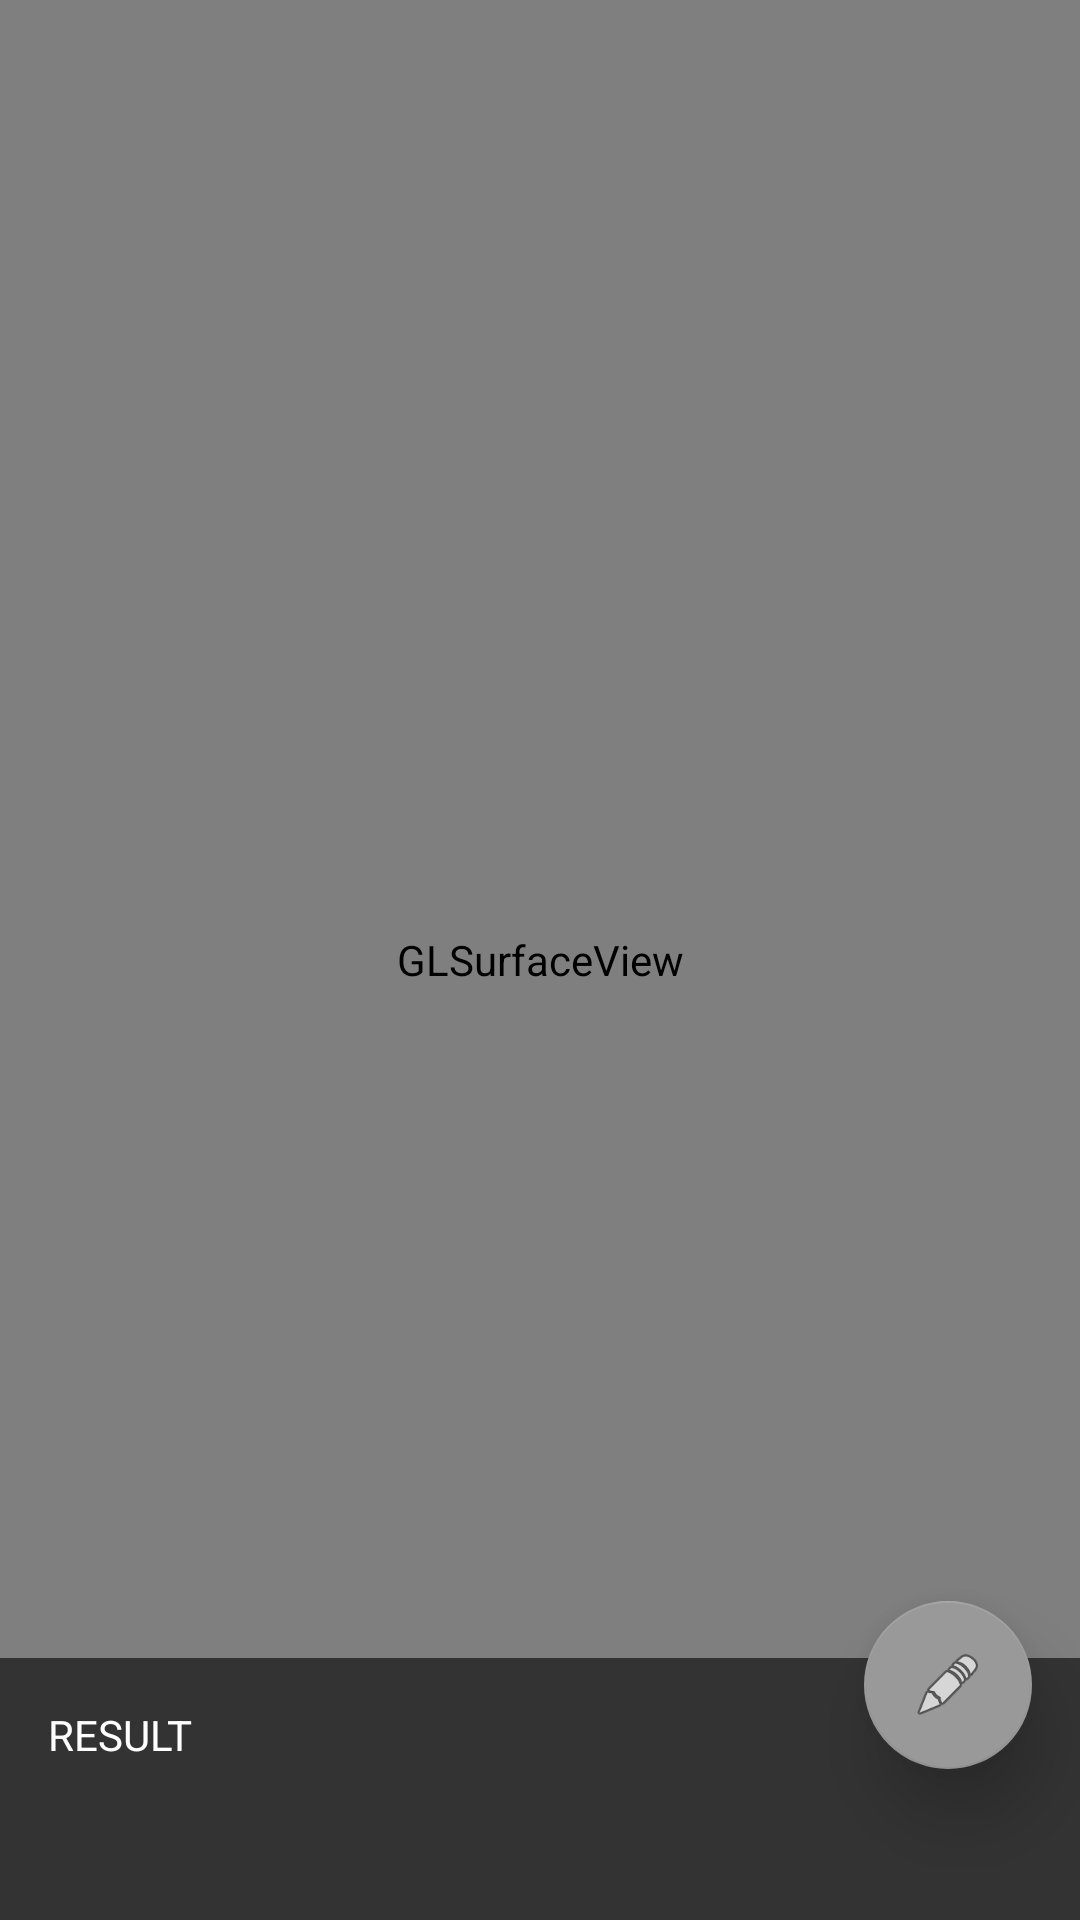

Point at icon controls on the screen. Image size 1080x1920, points as [x,y].
edit: [948,1685]
